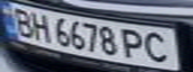6: (48, 15, 72, 47), (66, 19, 87, 52)
7: (81, 20, 100, 53)
8: (96, 24, 121, 56)
B: (6, 6, 36, 38)
C: (139, 29, 178, 64)
H: (27, 10, 54, 42)
P: (118, 27, 148, 61)
